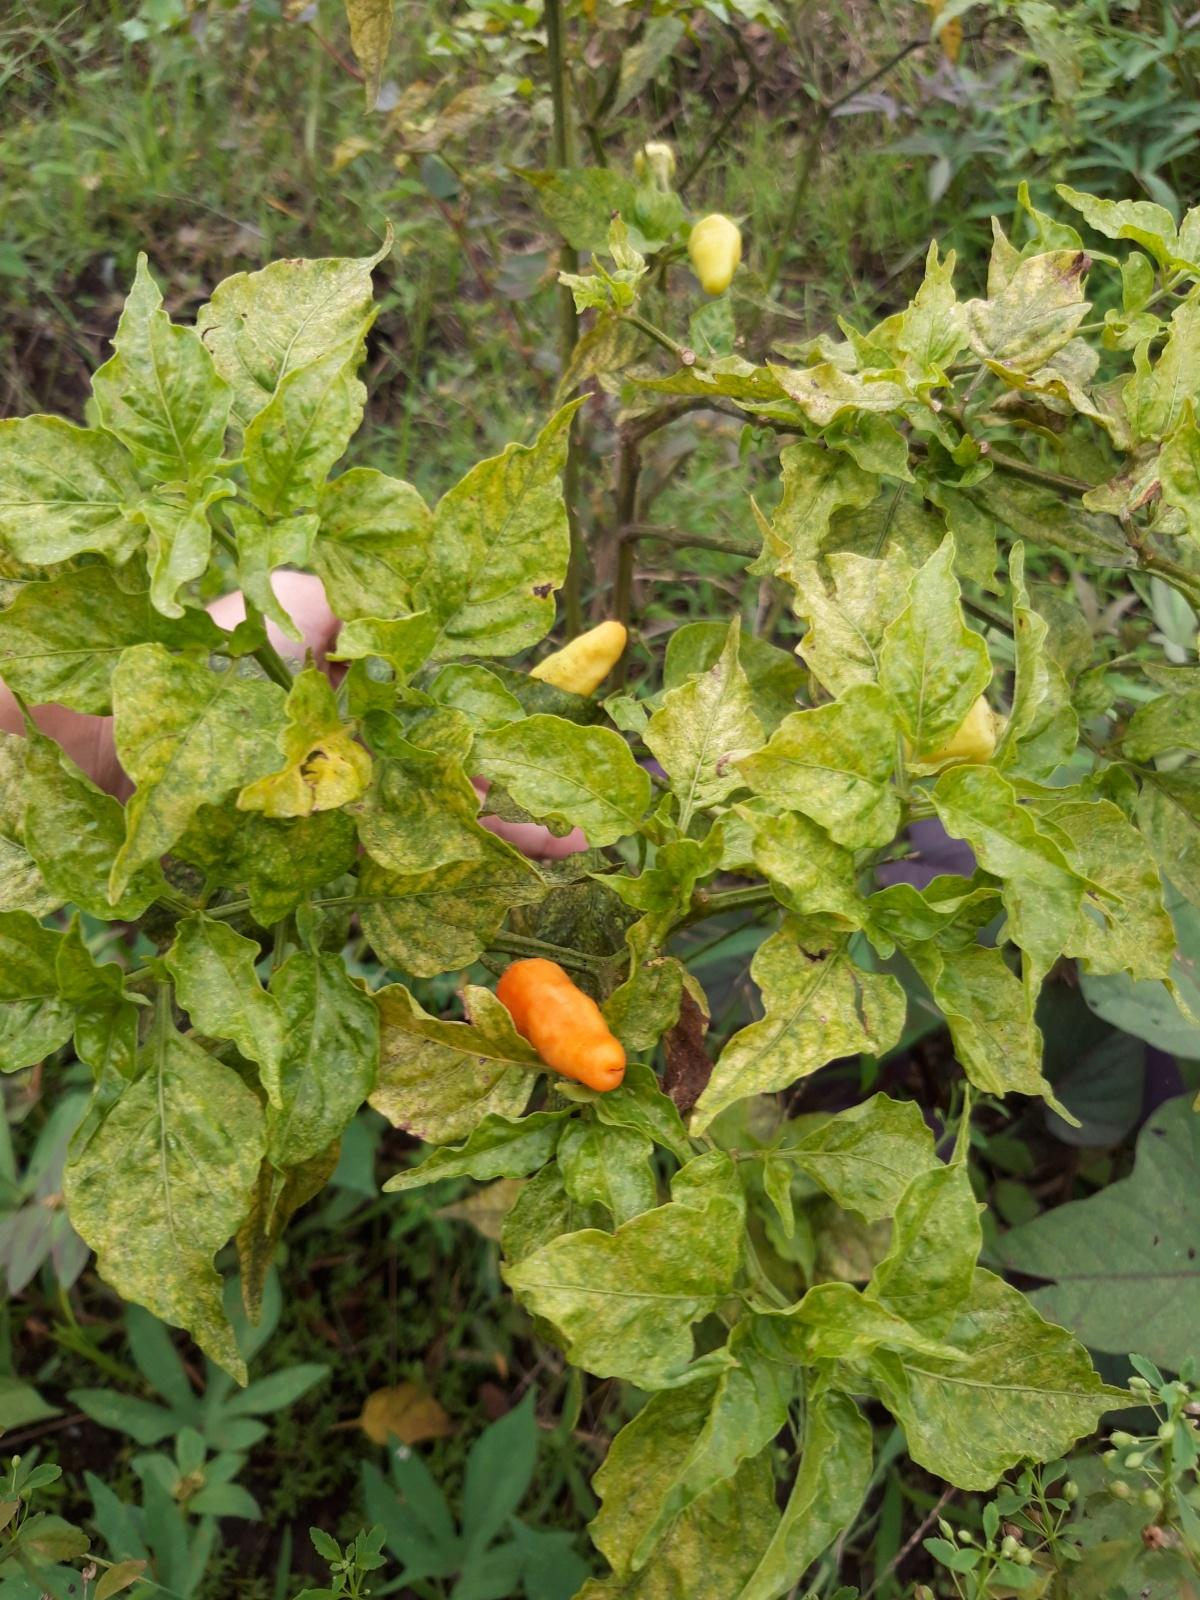cabai_normal: (495, 957, 626, 1091), (529, 621, 628, 695), (688, 213, 741, 295)
